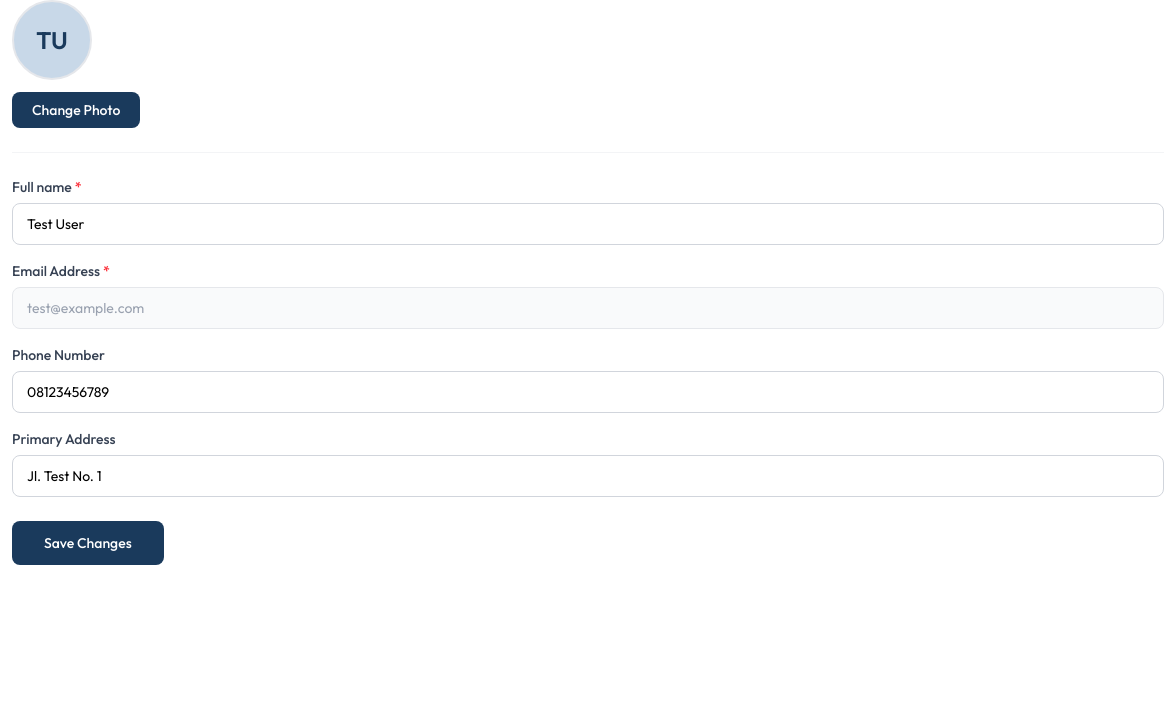
it: ProfileForm › tombol save disabled saat loading
Click the button "Save Changes": [88, 543] box [12,521,164,565]
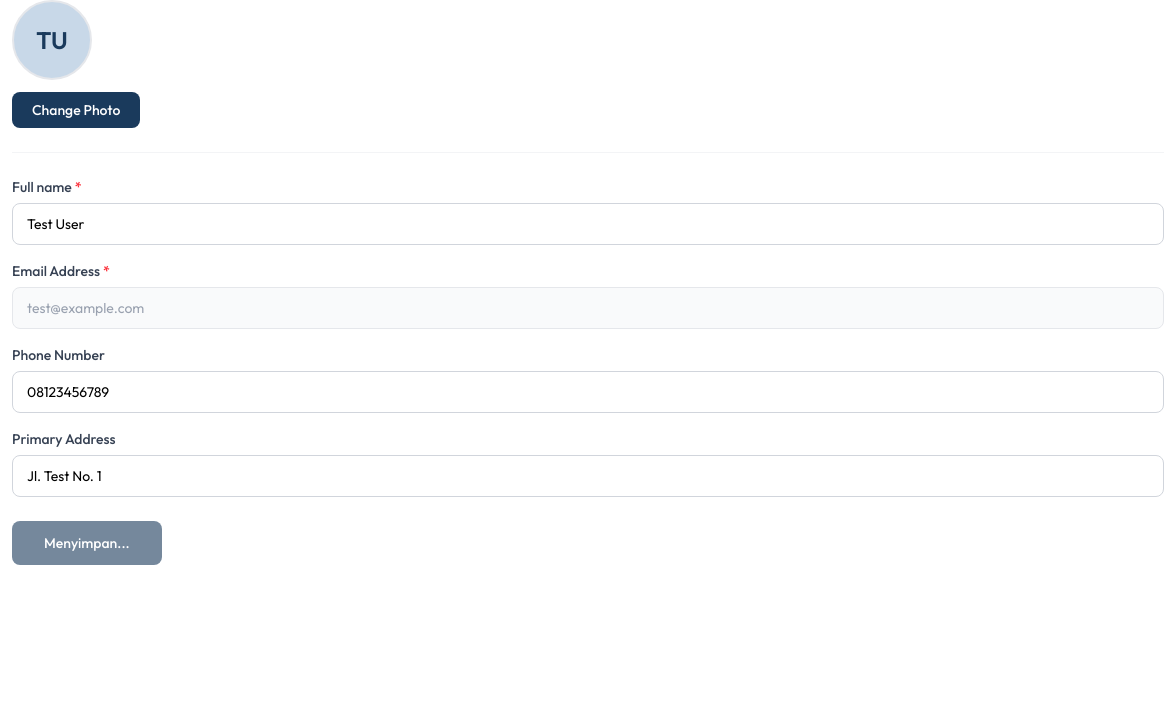
Expected: the button "Menyimpan..." is disabled, [12,521,162,565]
